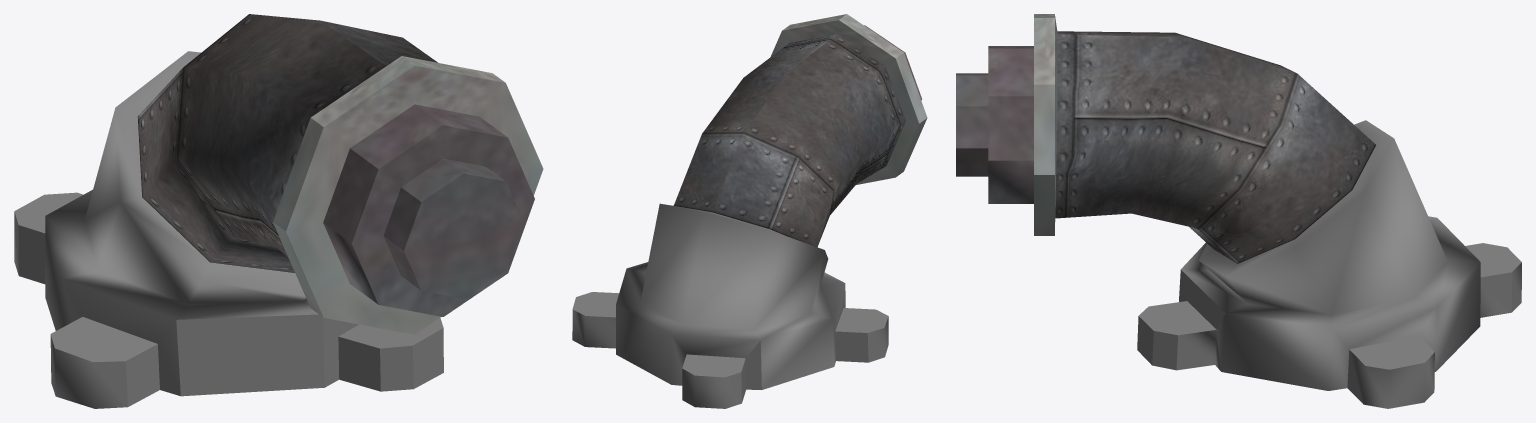
File: pipe_JU.glb
3 views of the same model, side by side, from view 1: azimuth 30°, elevation 25°; view 2: azimuth 150°, elevation 25°; view 3: azimuth 270°, elevation 25° (orthographic). The views are drawn at different scales.
Parts seen in each view (by area): view 1: zhuti.J; view 2: zhuti.J; view 3: zhuti.J.
Boxes of the visible parts, left/top/right/bottom form: zhuti.J: left=14, top=14, right=543, bottom=408; zhuti.J: left=572, top=14, right=927, bottom=408; zhuti.J: left=956, top=14, right=1521, bottom=408.
Size of the model in its own units: 6.86 by 6.08 by 10.07.
Materials: 2 (2 with a texture image).
